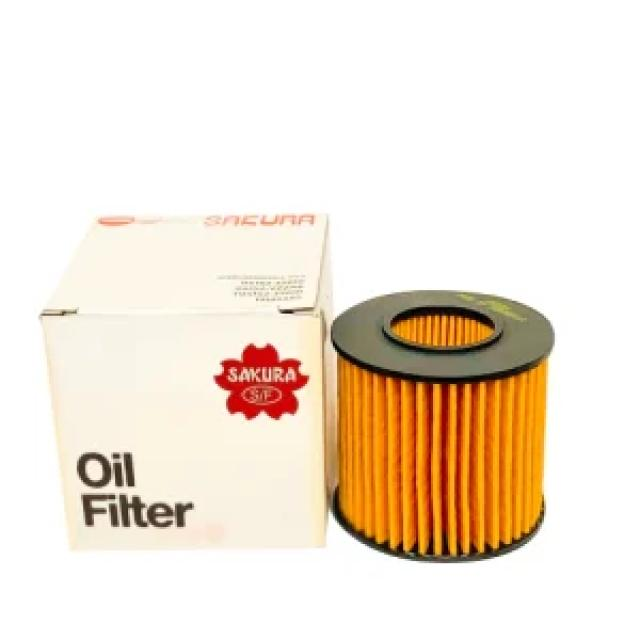oil_filter: (332, 285, 555, 567)
